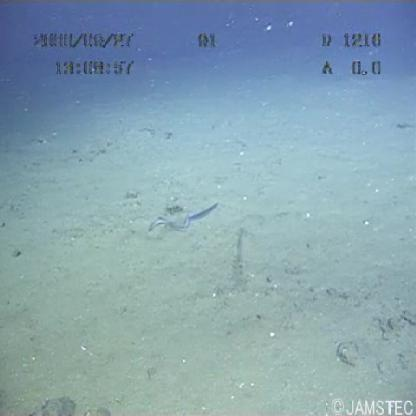Bio: (144, 196, 224, 244)
